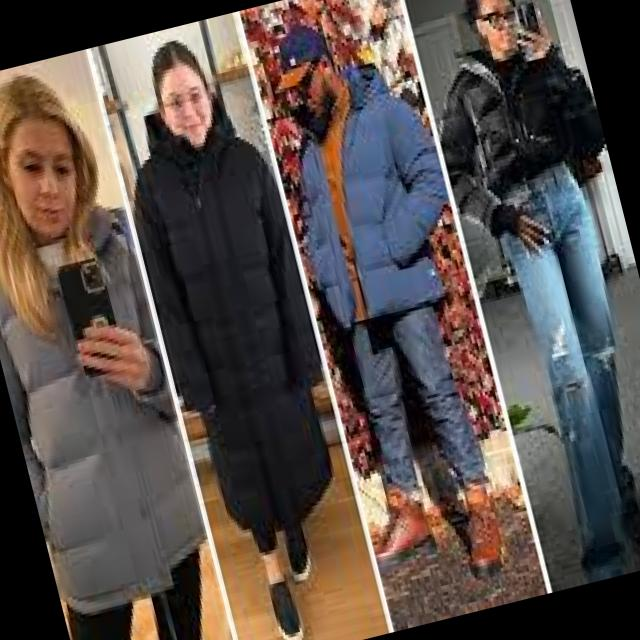Jacket: (104, 100, 376, 594), (0, 168, 219, 634), (277, 73, 479, 367), (414, 14, 626, 266)
